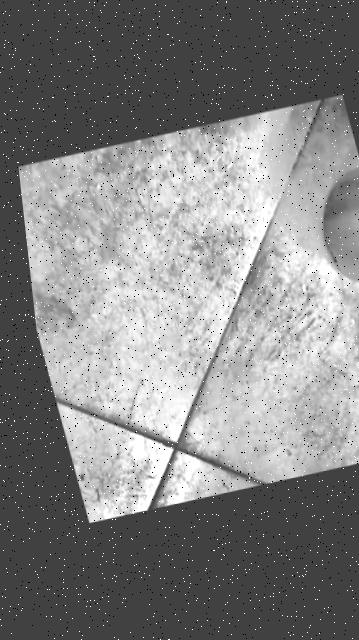pot: (301, 150, 359, 331)
